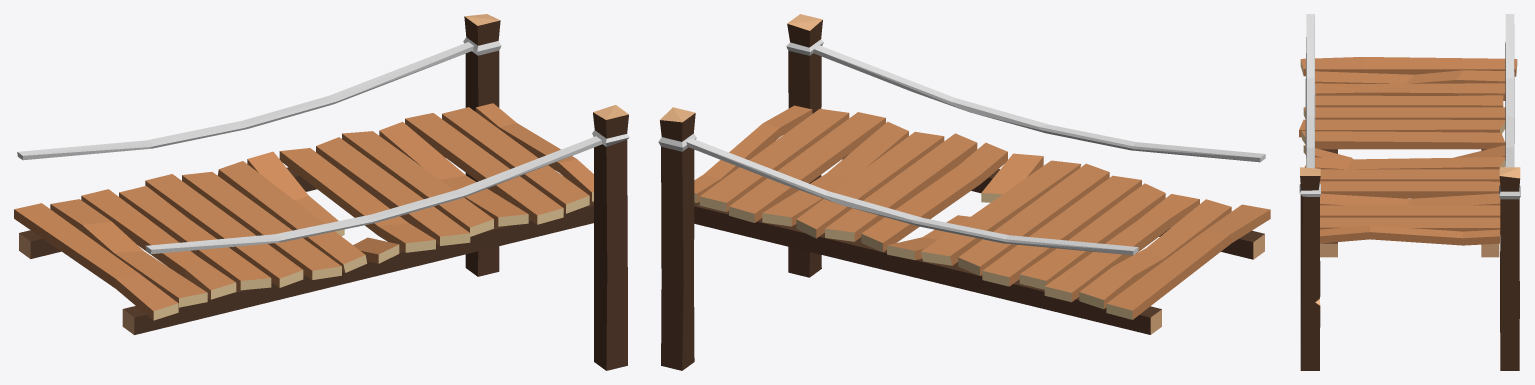
Rendered from Lowpoly_Props.glb.
3 renders of one model, left to right at view 1: azimuth 30°, elevation 25°; view 2: azimuth 150°, elevation 25°; view 3: azimuth 270°, elevation 25°, orthographic. The views are drawn at different scales.
Parts seen in each view (by area): view 1: pier_0; view 2: pier_0; view 3: pier_0.
Boxes of the visible parts, box(x1,y1,x2,y2) form: pier_0: box(14, 14, 629, 370); pier_0: box(658, 14, 1270, 370); pier_0: box(1299, 14, 1520, 370).
Size of the model in its own units: 13.94 by 6.93 by 7.14.
1 material, 1 textured.
